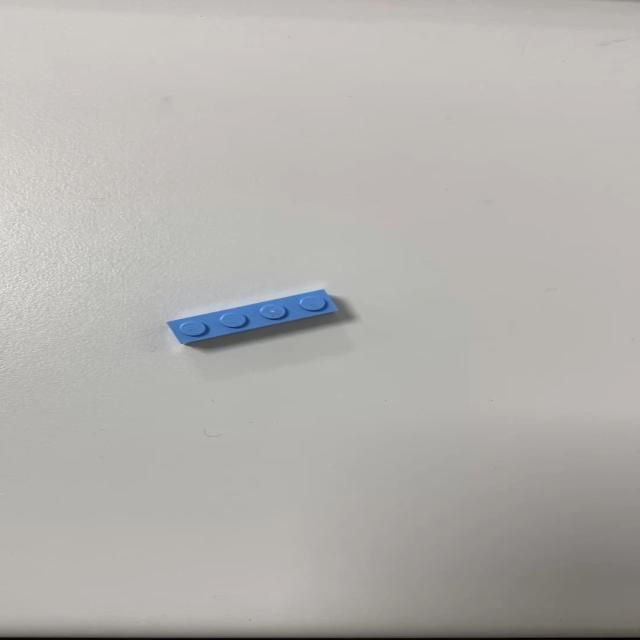C4x1x1: (164, 288, 339, 346)
